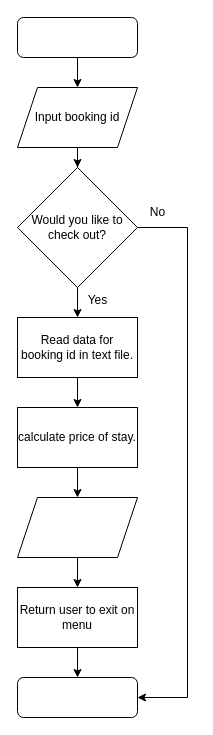
The diagram is 213 pixels wide and 735 high, and some of its shapes have lost their labels. Each missing label, with the centre of its shape:
"End" belongs at pixel 77 697.
"Start" belongs at pixel 77 37.
"Total price and payment." belongs at pixel 77 527.
